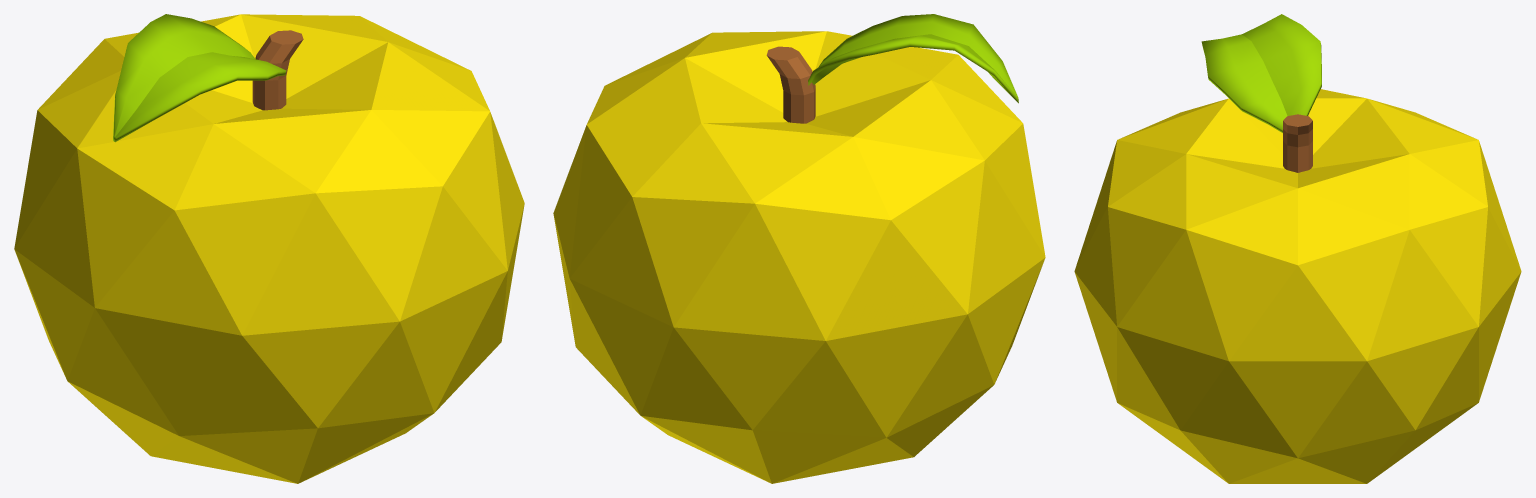
The model's file is ManzanaAmarilla.fbx.
3 views of the same model, side by side, from view 1: azimuth 30°, elevation 25°; view 2: azimuth 150°, elevation 25°; view 3: azimuth 270°, elevation 25° (orthographic). The views are drawn at different scales.
Parts seen in each view (by area): view 1: Manzana(A); view 2: Manzana(A); view 3: Manzana(A).
Boxes of the visible parts, bbox=[...] form: Manzana(A): bbox=[14, 14, 524, 483]; Manzana(A): bbox=[553, 14, 1045, 483]; Manzana(A): bbox=[1074, 14, 1521, 483].
Size of the model in its own units: 7.5 by 7.62 by 7.89.
